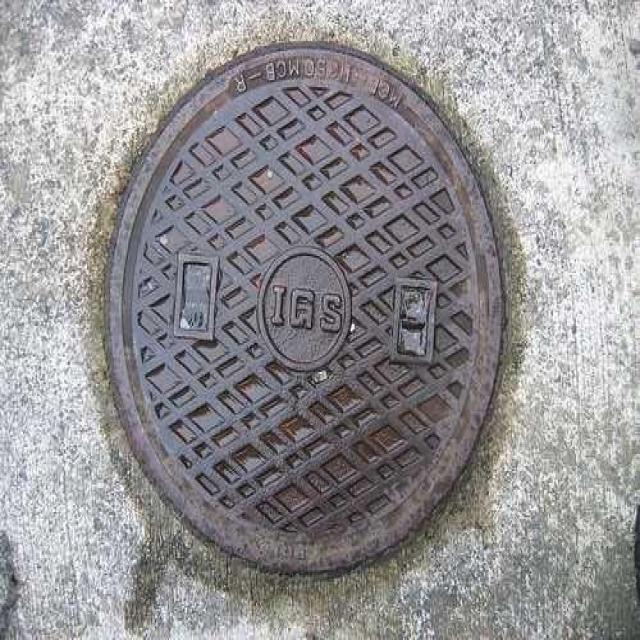manhole: (106, 47, 502, 571)
